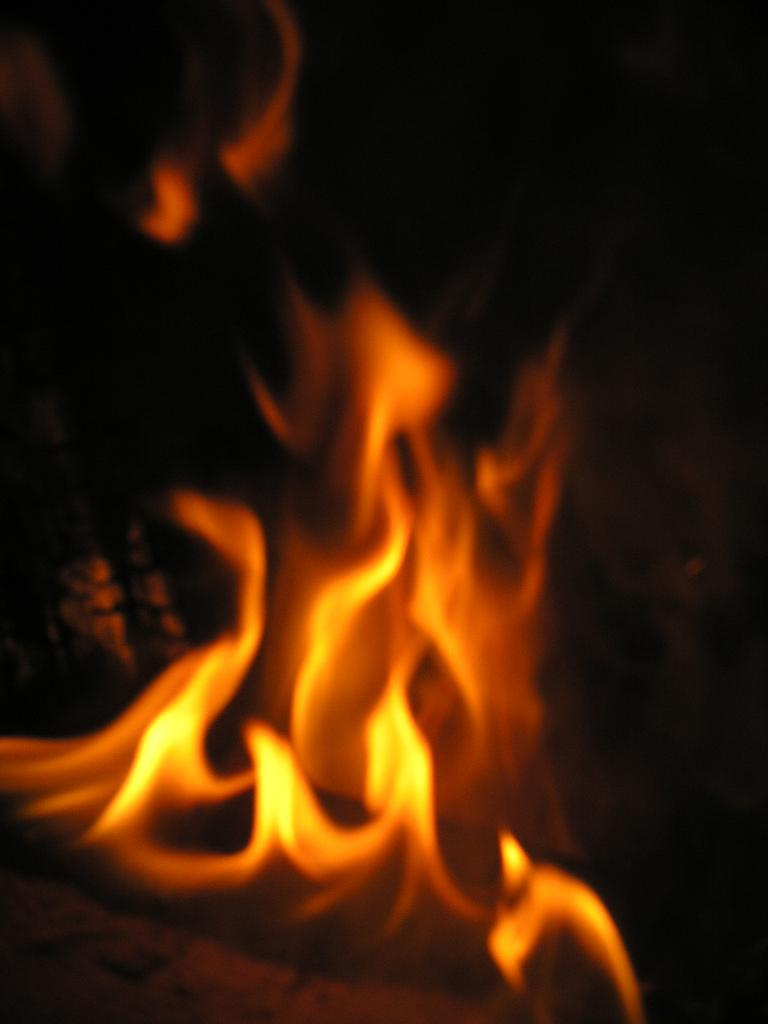fire: (332, 472, 535, 920)
